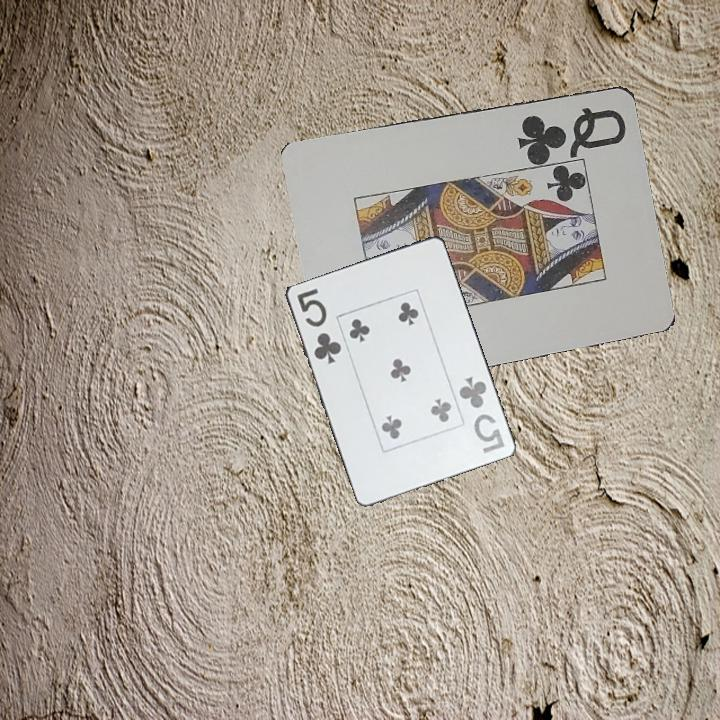5c: (455, 372, 507, 457), (293, 284, 344, 367)
Qc: (514, 103, 630, 161)
